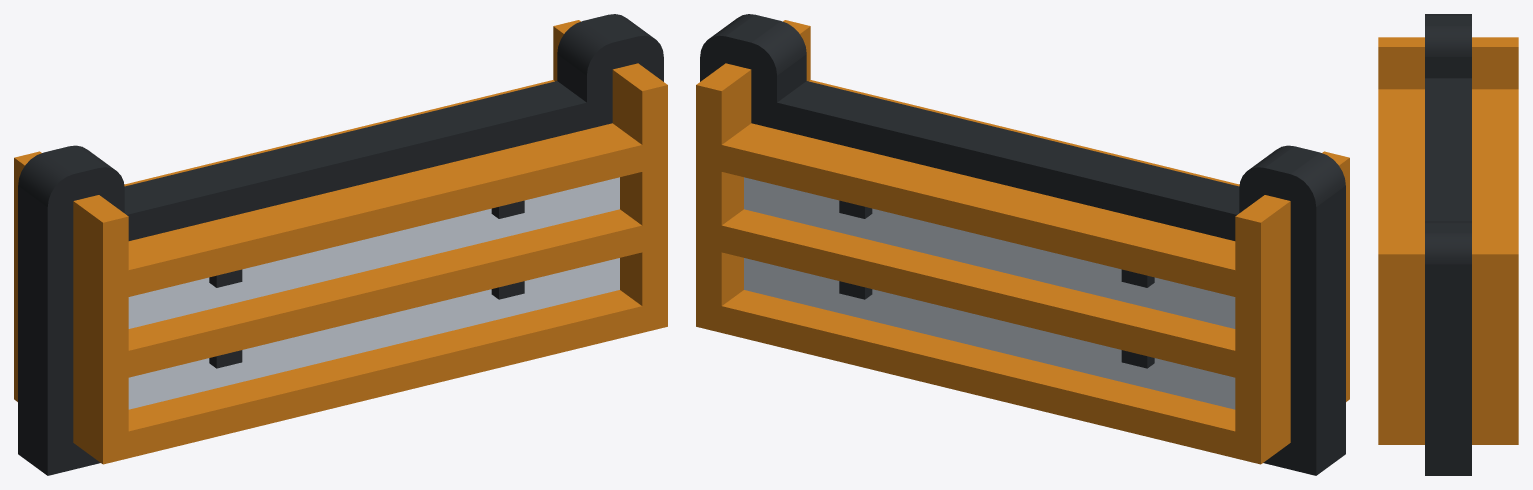
File: shelf.glb
3 views of the same model, side by side, from view 1: azimuth 30°, elevation 25°; view 2: azimuth 150°, elevation 25°; view 3: azimuth 270°, elevation 25° (orthographic). The views are drawn at different scales.
Visible parts, largest first — view 1: generated(Clone); view 2: generated(Clone); view 3: generated(Clone).
Boxes of the visible parts, left/top/right/bottom form: generated(Clone): left=14, top=14, right=667, bottom=475; generated(Clone): left=696, top=14, right=1349, bottom=475; generated(Clone): left=1378, top=14, right=1518, bottom=475.
Size of the model in its own units: 24 by 11 by 6.
